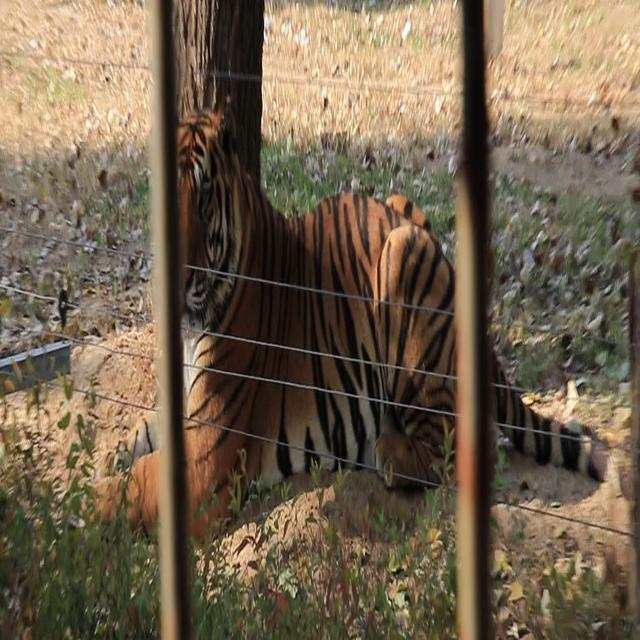tiger: (68, 105, 611, 550)
